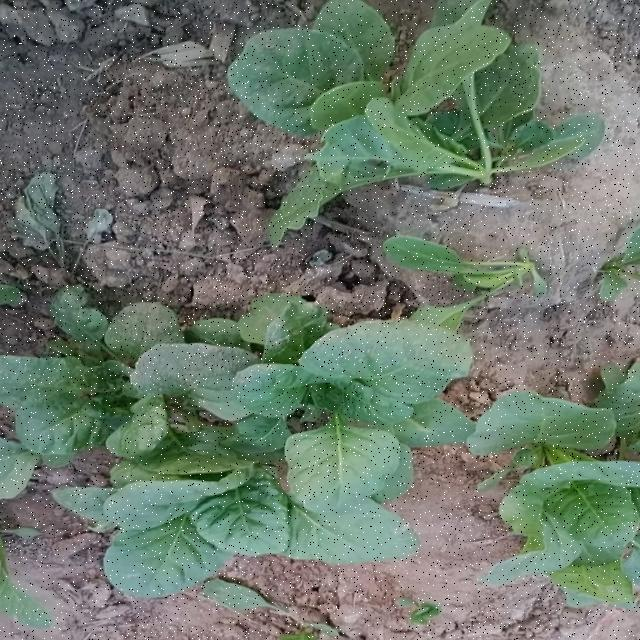plant: (1, 237, 639, 608), (227, 0, 604, 241)
